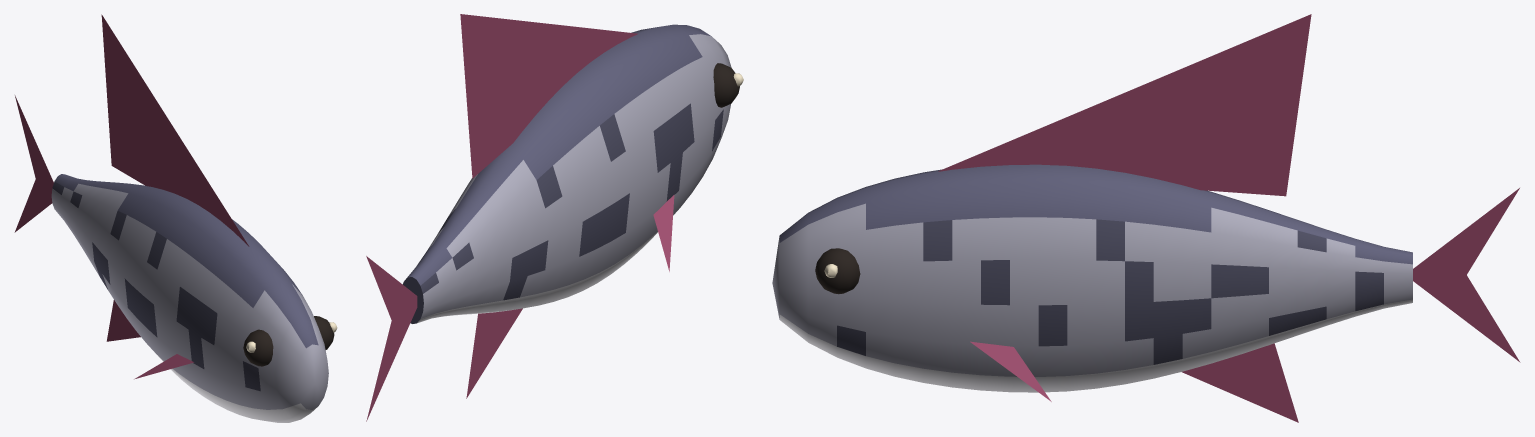
The model's file is grayling.fbx.
The picture shows the model from 3 angles, left to right: view 1: azimuth 30°, elevation 25°; view 2: azimuth 150°, elevation 25°; view 3: azimuth 270°, elevation 25°; orthographic projection. The views are drawn at different scales.
Parts seen in each view (by area): view 1: Fish_grayling_EXP; view 2: Fish_grayling_EXP; view 3: Fish_grayling_EXP.
Boxes of the visible parts, x1,y1,x2,y2 form: Fish_grayling_EXP: [14, 14, 337, 422]; Fish_grayling_EXP: [366, 14, 743, 421]; Fish_grayling_EXP: [772, 14, 1520, 422].
Bounding box in the file's own units: 0.1309 × 0.285 × 0.4725.
